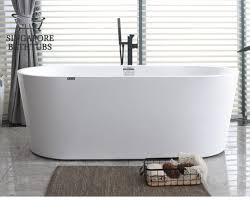bathub: (14, 60, 242, 166)
